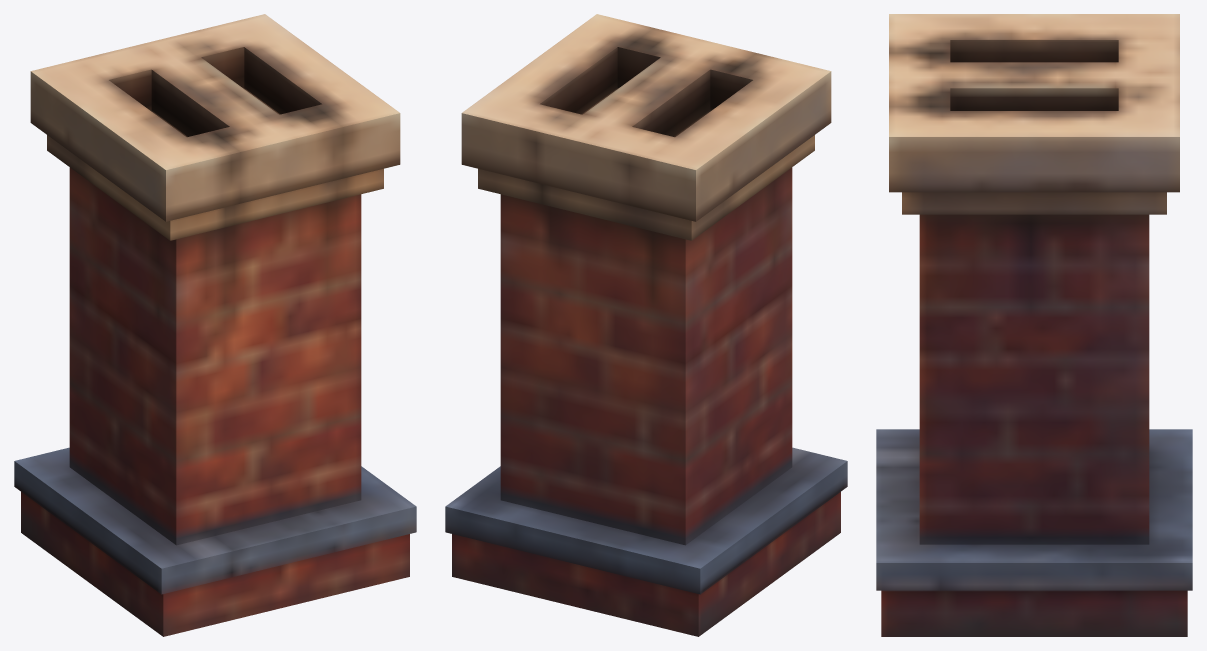
File: RF_ChimneyBrick.fbx
The picture shows the model from 3 angles, left to right: view 1: azimuth 30°, elevation 25°; view 2: azimuth 150°, elevation 25°; view 3: azimuth 270°, elevation 25°; orthographic projection. The views are drawn at different scales.
Visible parts, largest first — view 1: RF_ChimneyBrick; view 2: RF_ChimneyBrick; view 3: RF_ChimneyBrick.
Boxes of the visible parts, x1=… form: RF_ChimneyBrick: x1=14, y1=14, x2=416, y2=636; RF_ChimneyBrick: x1=445, y1=14, x2=847, y2=636; RF_ChimneyBrick: x1=876, y1=14, x2=1192, y2=636.
Bounding box in the file's own units: 1.24 × 1.24 × 2.15.
Materials: 1 (1 with a texture image).
